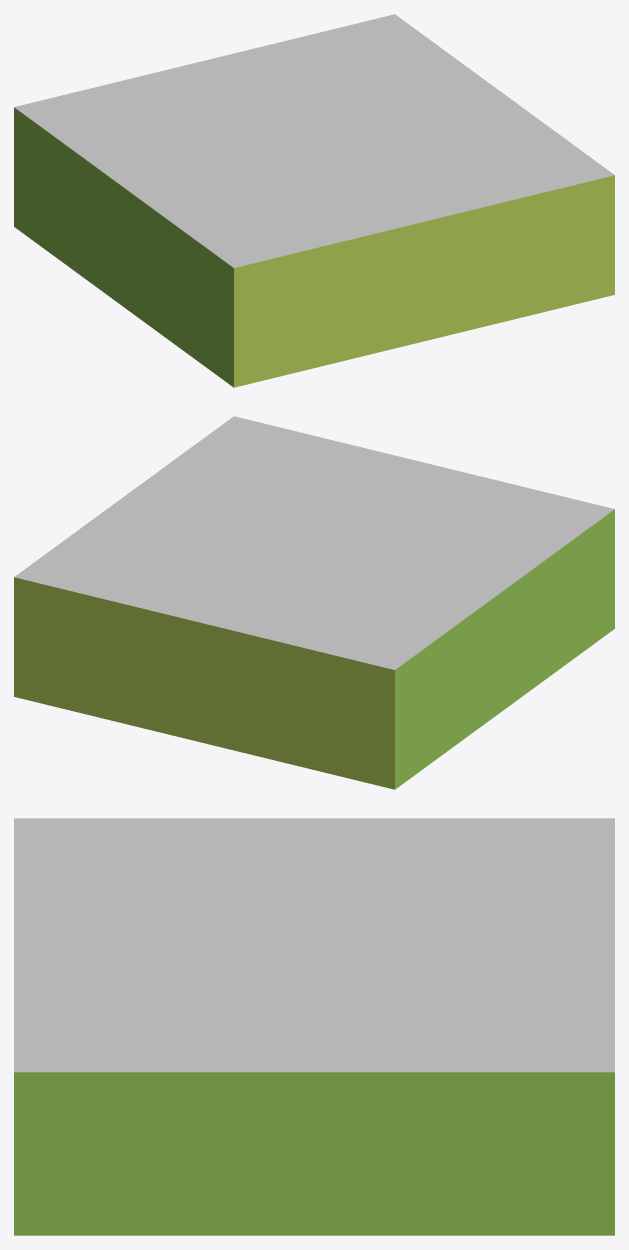
The model's file is floor_basic8.fbx.
The picture shows the model from 3 angles, top to bottom: view 1: azimuth 30°, elevation 25°; view 2: azimuth 150°, elevation 25°; view 3: azimuth 270°, elevation 25°; orthographic projection. The views are drawn at different scales.
Parts seen in each view (by area): view 1: floor_basic1; view 2: floor_basic1; view 3: floor_basic1.
Part boxes in pixels (x1=…): floor_basic1: x1=14, y1=14, x2=614, y2=387; floor_basic1: x1=14, y1=416, x2=614, y2=789; floor_basic1: x1=14, y1=818, x2=614, y2=1235.
Bounding box in the file's own units: 100 × 30 × 100.
